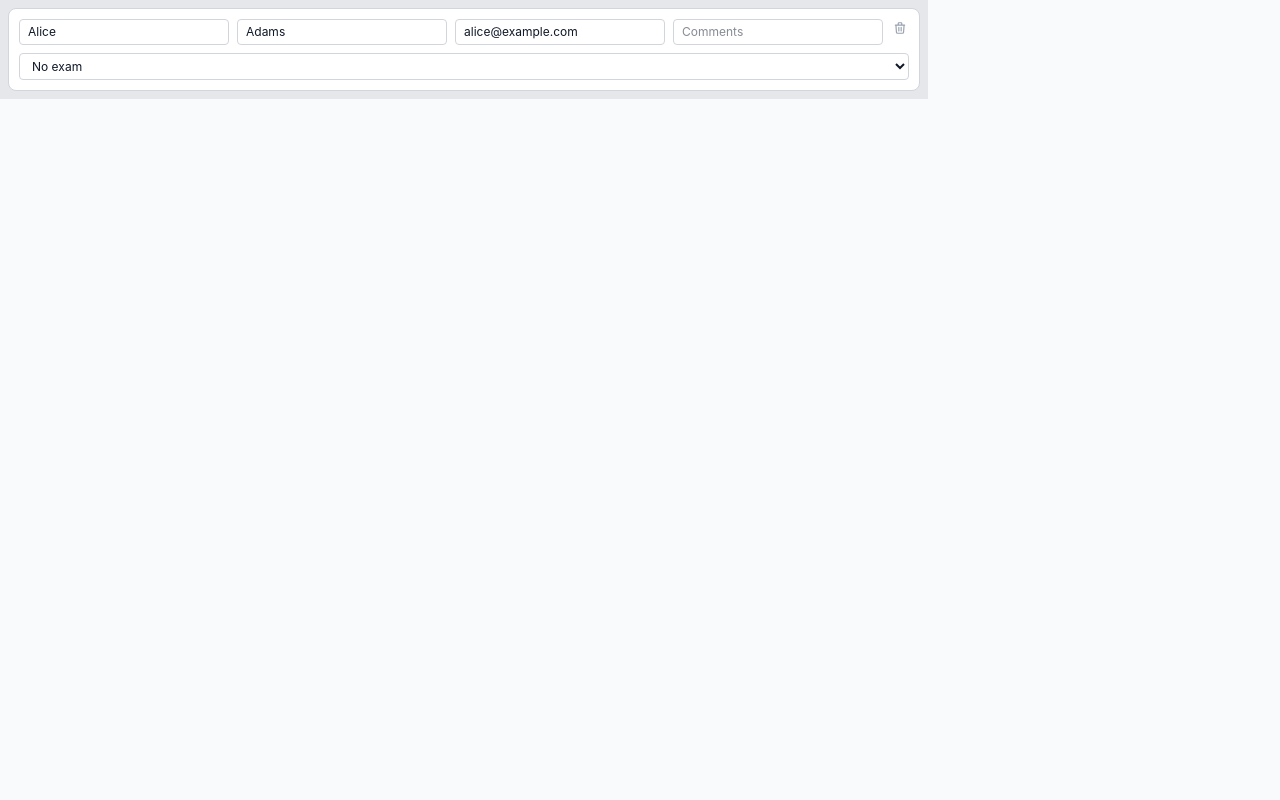
Test: AttendeeRow › Delete flow › shows the portal-access warning text when the offer is accepted
What coordinates should you click on to do the following:
click the button titled "Delete attendee"
I would click on:
 (900, 28)
Its box is 891,19 -> 909,37.
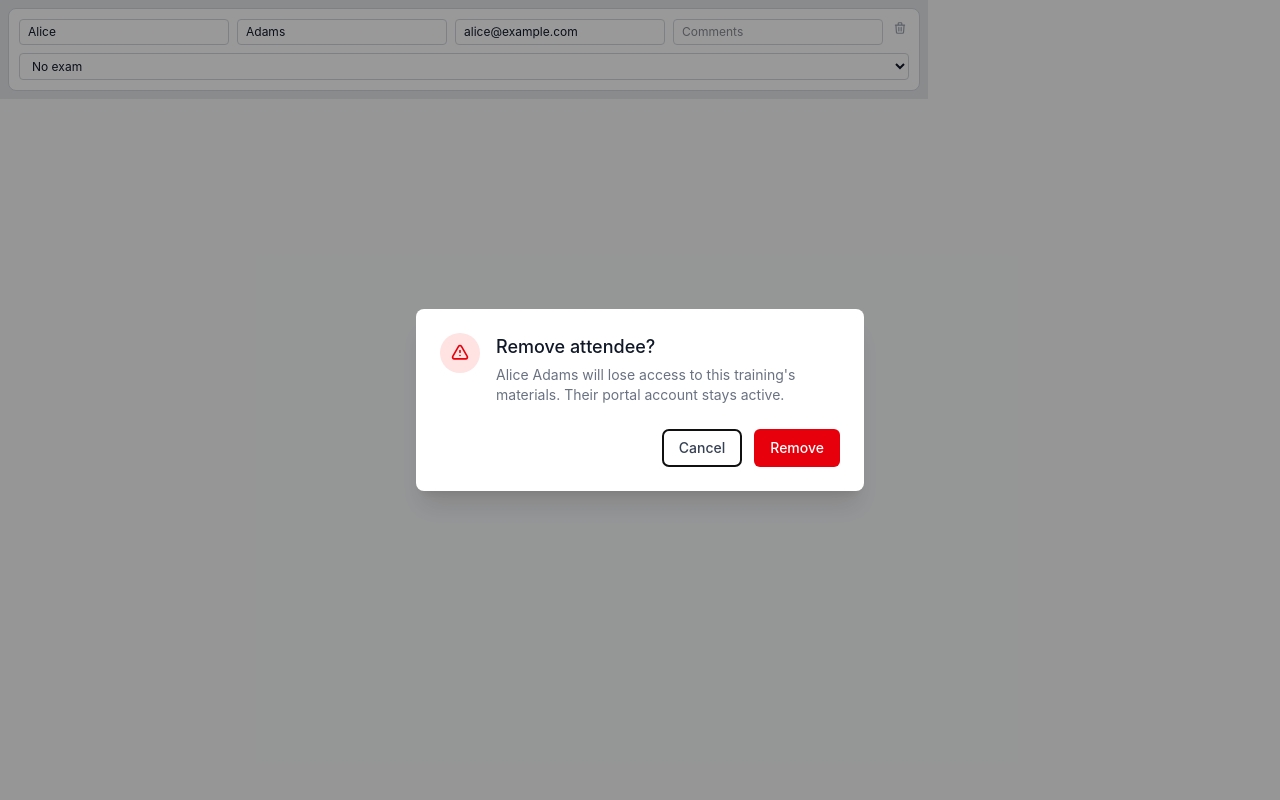
Expected: the text "will lose access to this training's materials" is shown, 496,366 -> 795,403
